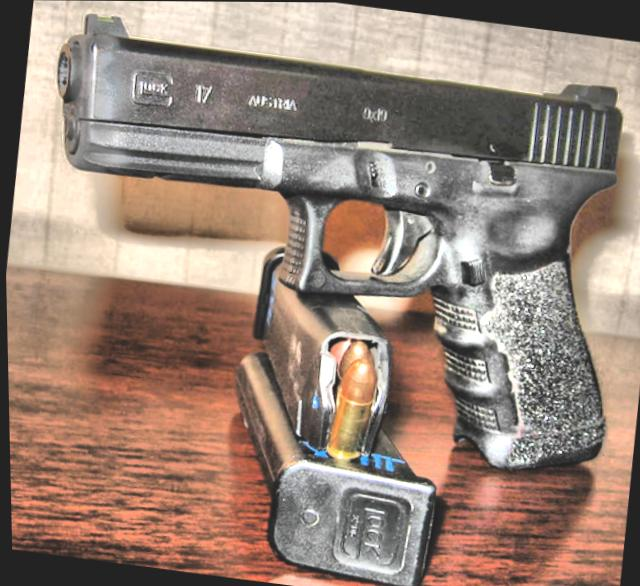pistol: (6, 0, 640, 479)
